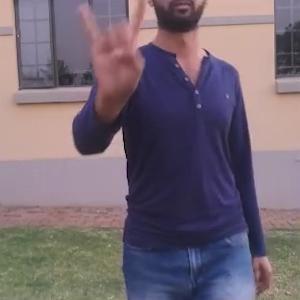takeoff-hand: (71, 0, 149, 100)
